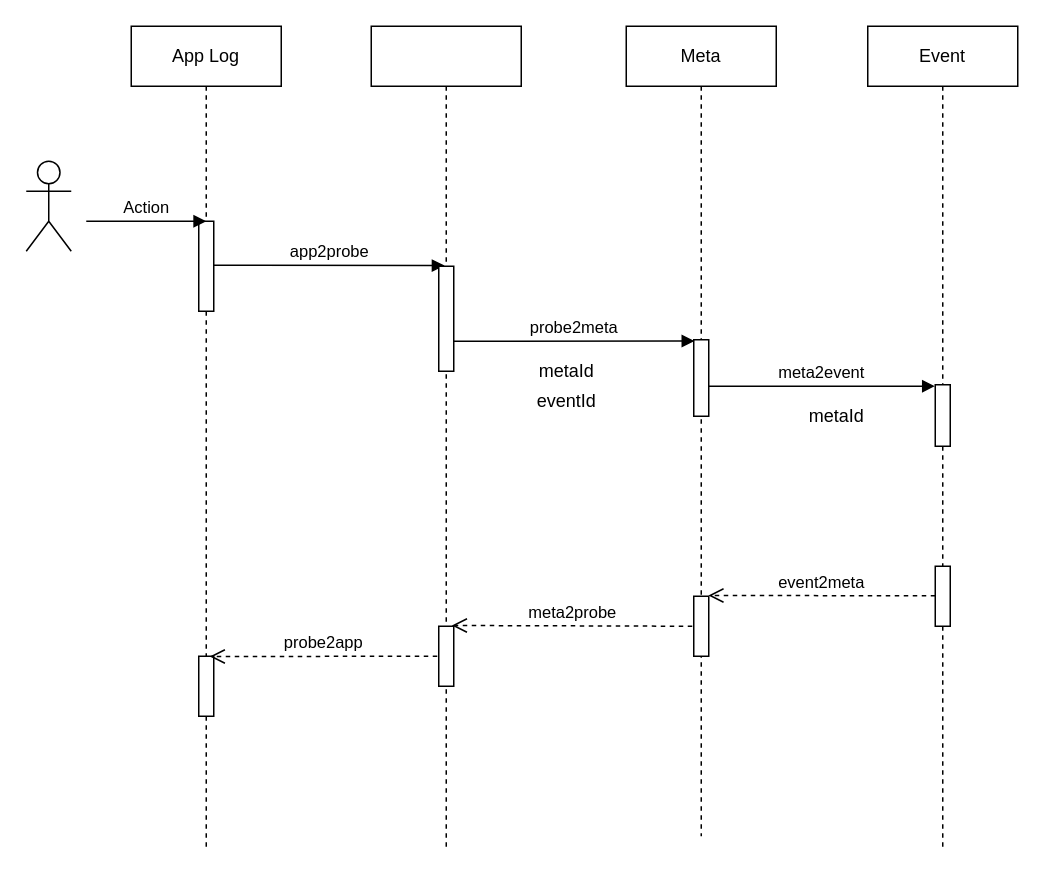
This 1044x878 diagram has some shape labels left out. Each missing label, with the box of its shape:
Actor: (25, 160, 71, 251)
Probe: (370, 25, 521, 851)
